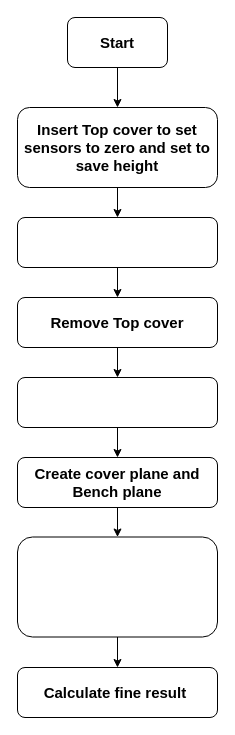
Image size: 235x735. Some labels were removed from this diagram. The centre of each missing label's shape, as x and y in pixels:
"Define Cover plane to reference plane (0,0,0) and Bench plane is test plane" goes at [117,586].
"Read all measured values cover and Bench(mm.)" goes at [117,402].
"set all sensor to zero onTop cover" goes at [117,242].
